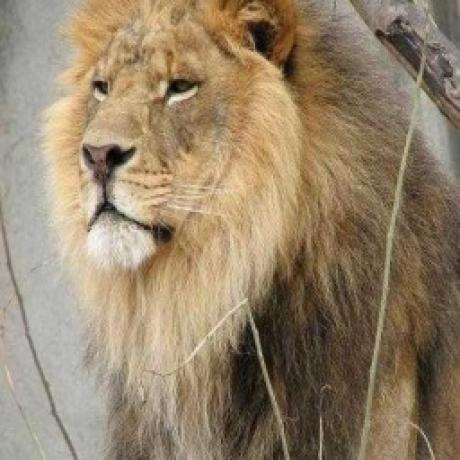Lion: (42, 0, 443, 460)
